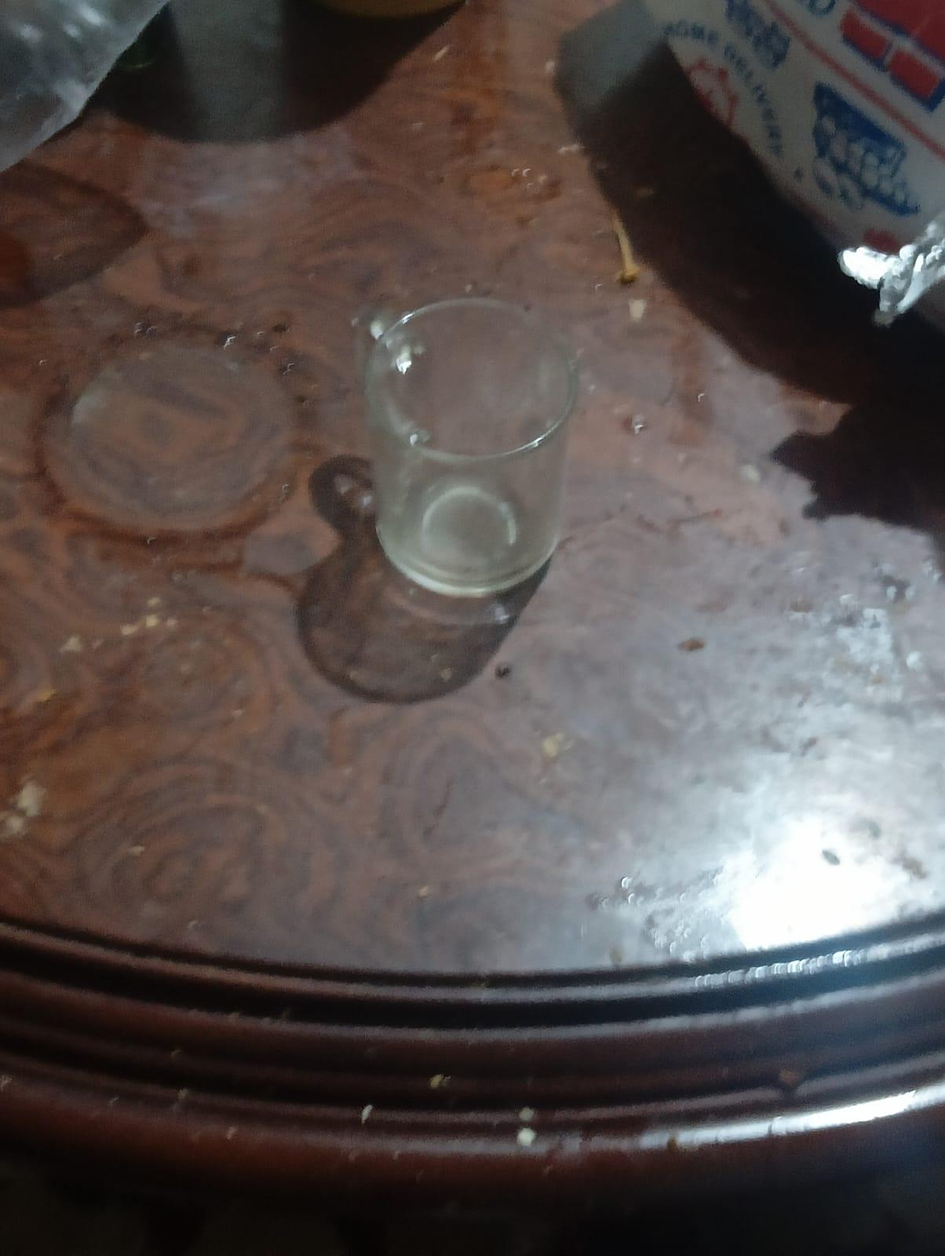cup: (356, 298, 576, 595), (389, 320, 564, 458)
